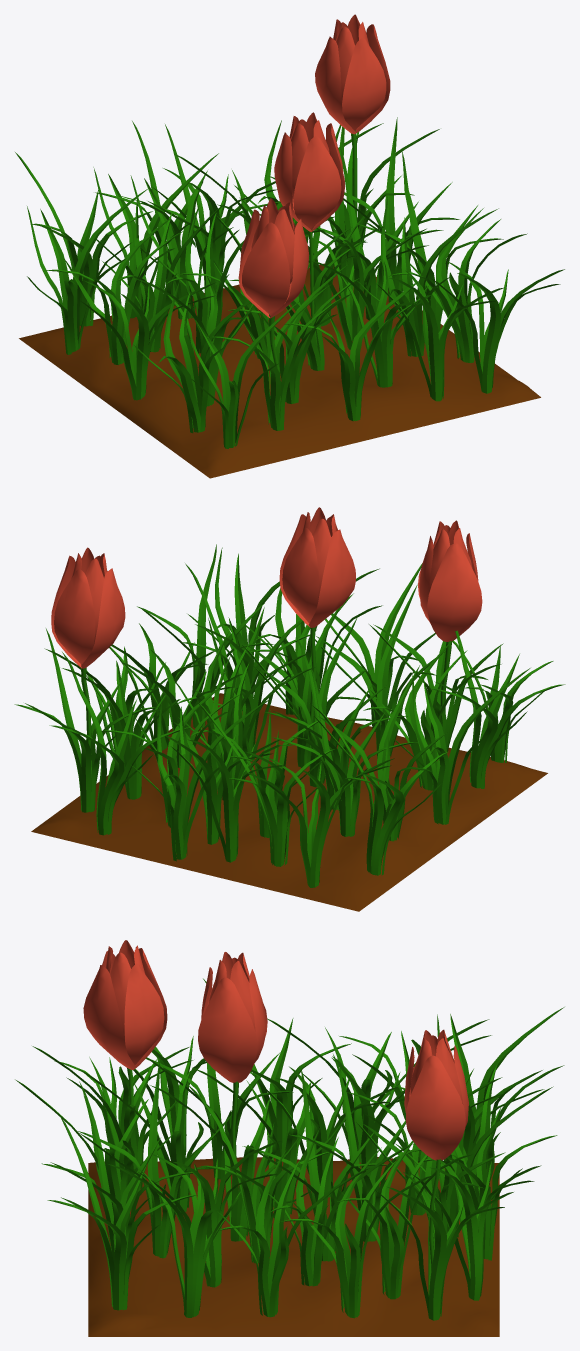
File: red-tulip-p2-bloom.glb
3 views of the same model, one above another, from view 1: azimuth 30°, elevation 25°; view 2: azimuth 150°, elevation 25°; view 3: azimuth 270°, elevation 25° (orthographic). The views are drawn at different scales.
Visible parts, largest first — view 1: 2_nft_bloom; view 2: 2_nft_bloom; view 3: 2_nft_bloom.
Part boxes in pixels (x1,y1,x2,y2): 2_nft_bloom: [15, 14, 564, 478]; 2_nft_bloom: [14, 507, 565, 911]; 2_nft_bloom: [15, 940, 564, 1336].
Size of the model in its own units: 0.8607 by 0.5501 by 0.9388.
